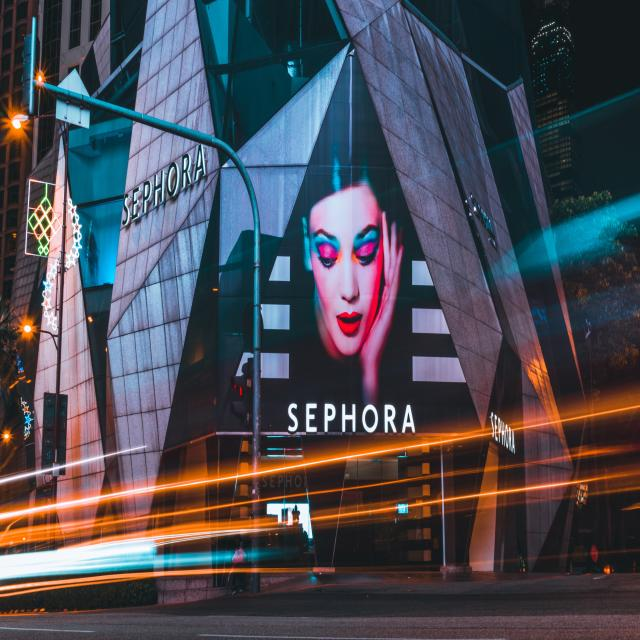Street Light: (11, 113, 70, 586), (22, 320, 56, 558)
